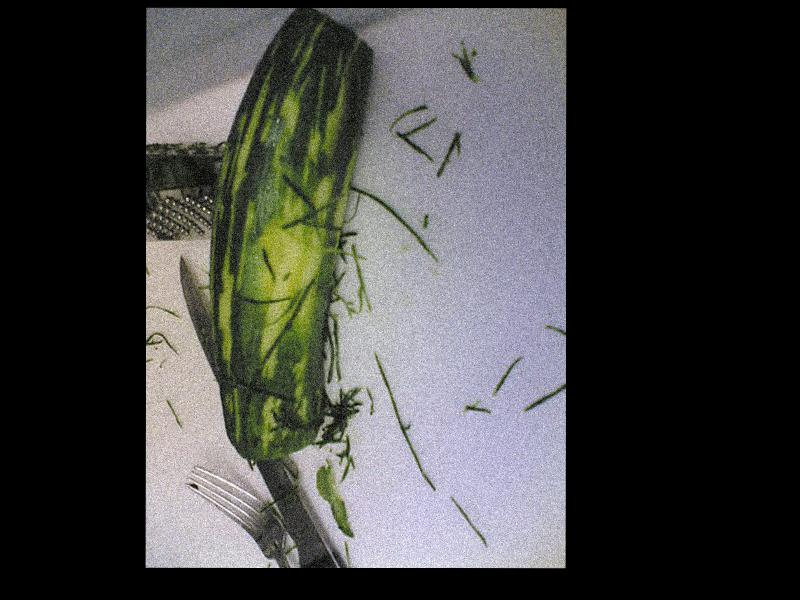Cucumber: (209, 10, 374, 461)
